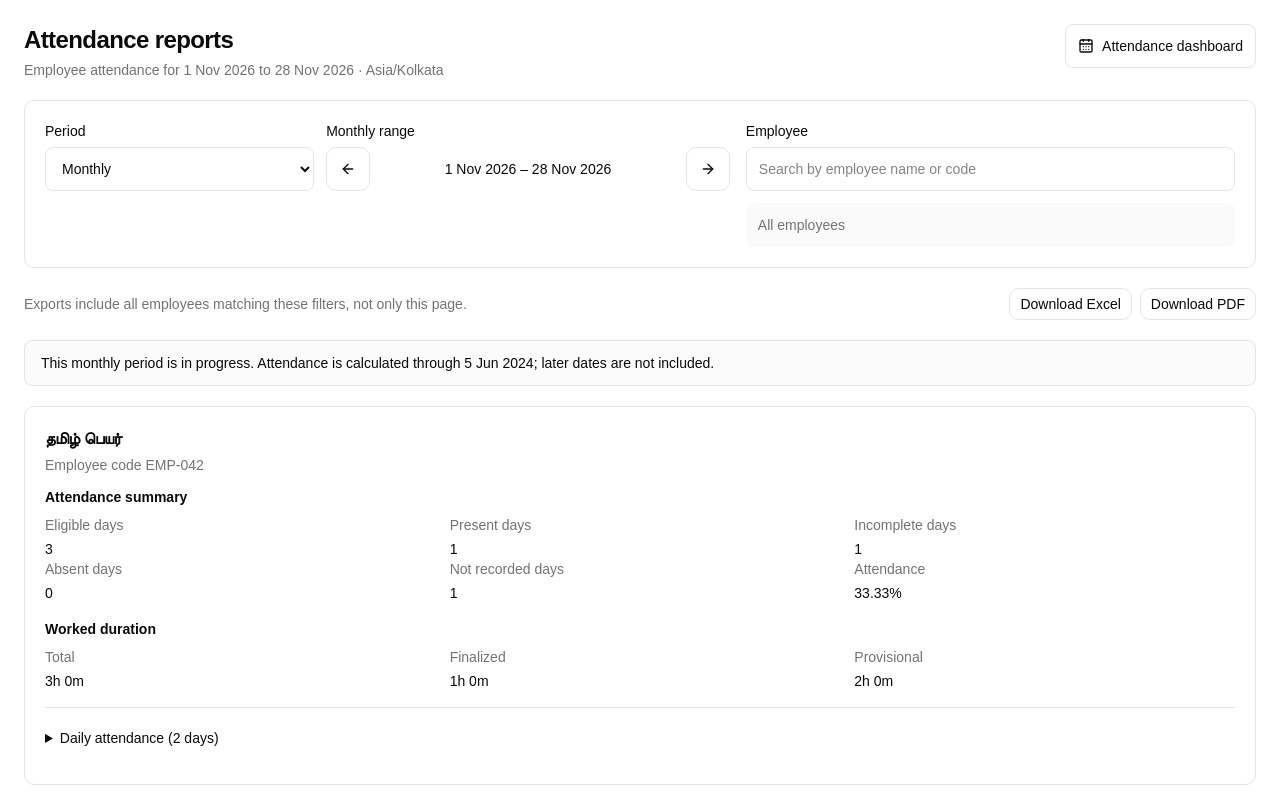
attendance report page › moves between preset periods and reports navigation boundary errors
Select "Weekly" in the dropdown labelled "Period": (180, 169) [45,147,314,191]
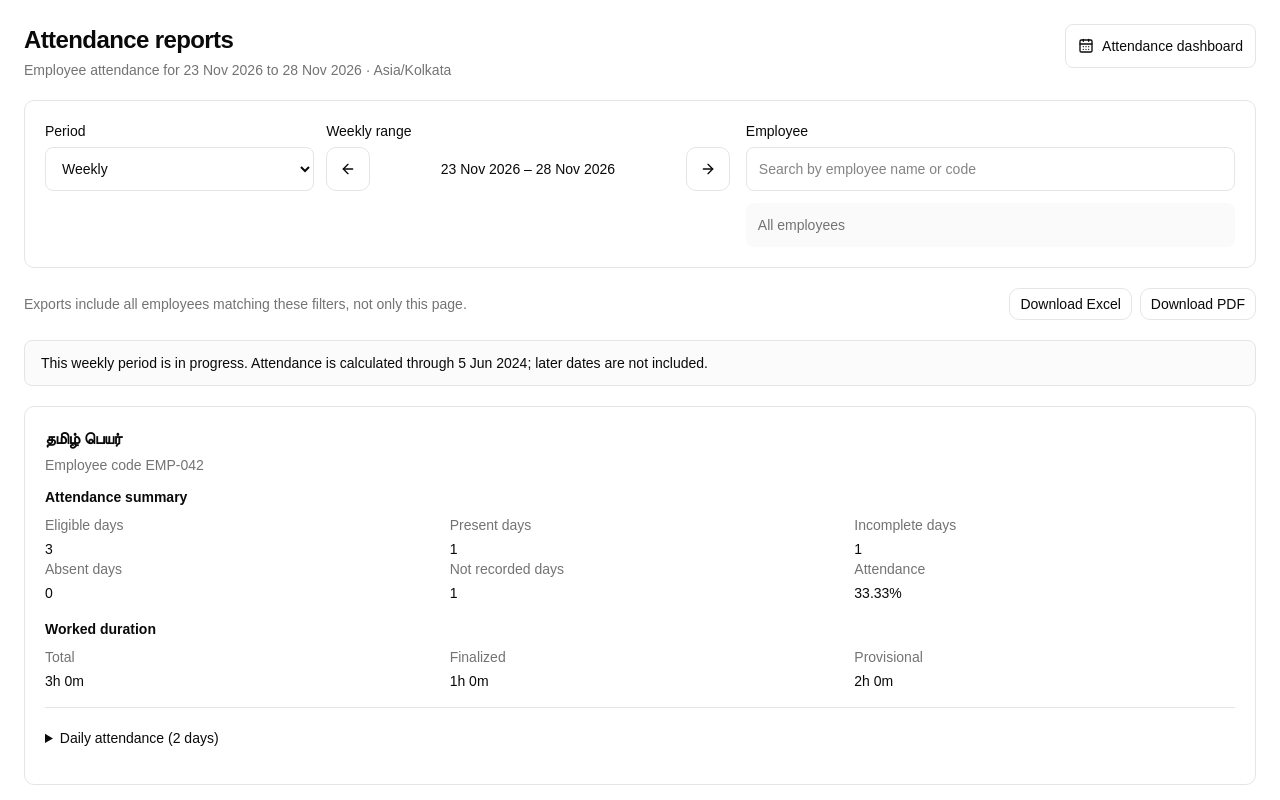
Click the button named "Previous week": (348, 169) [326,147,370,191]
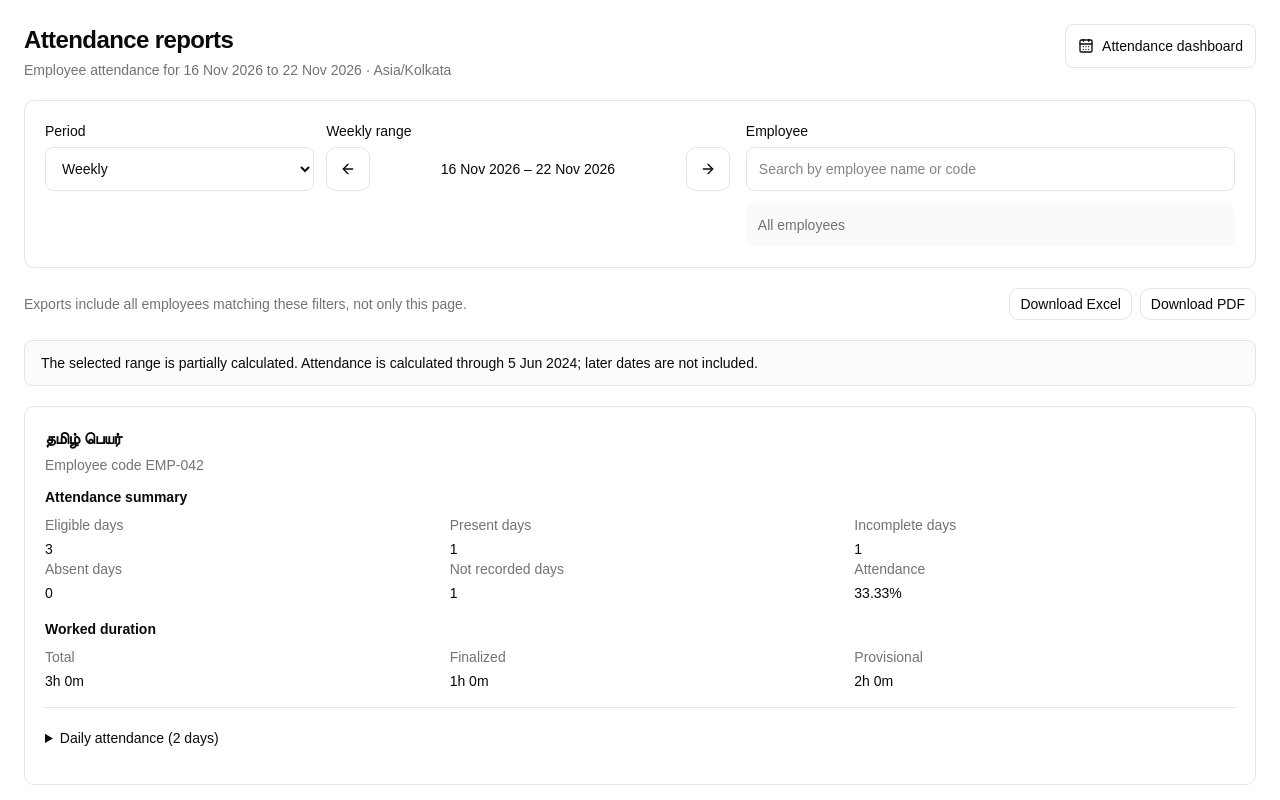
Click the button named "Next week": (708, 169) [686,147,730,191]
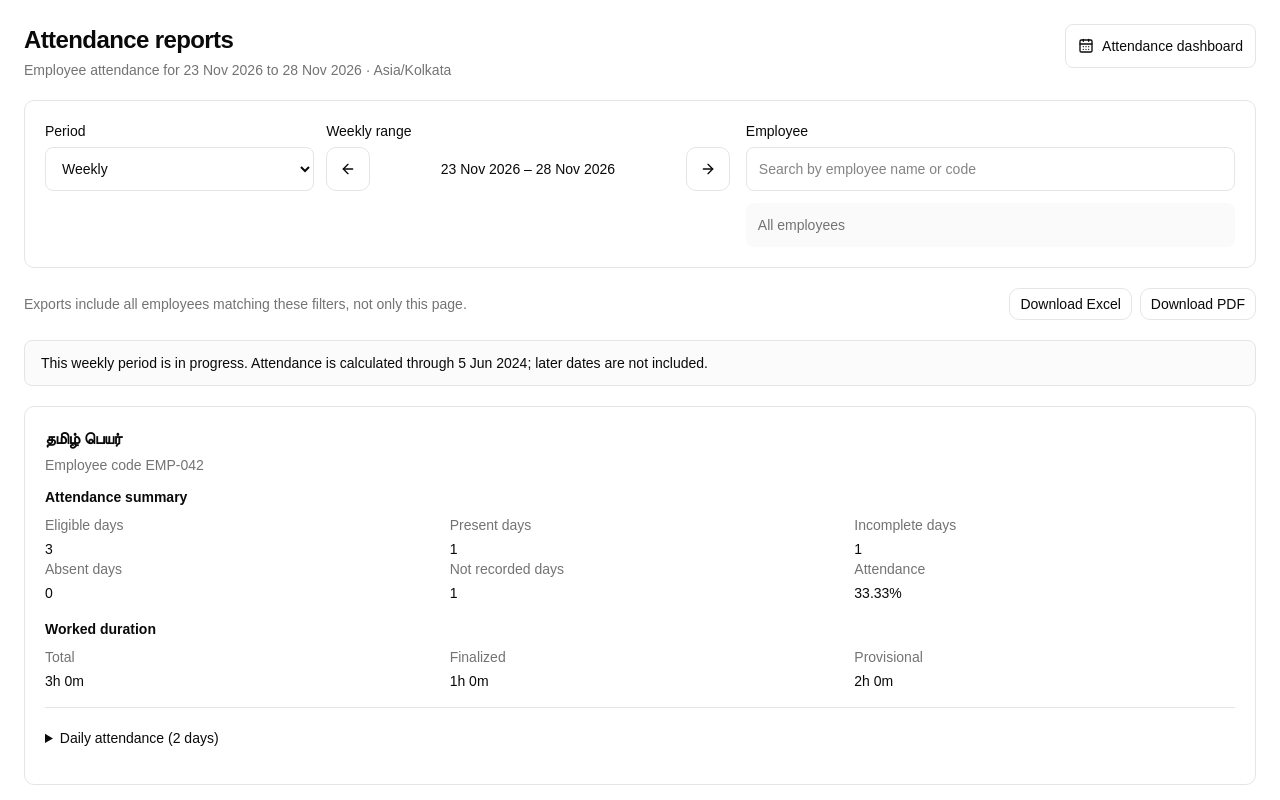
Click the button named "Previous week": (348, 169) [326,147,370,191]
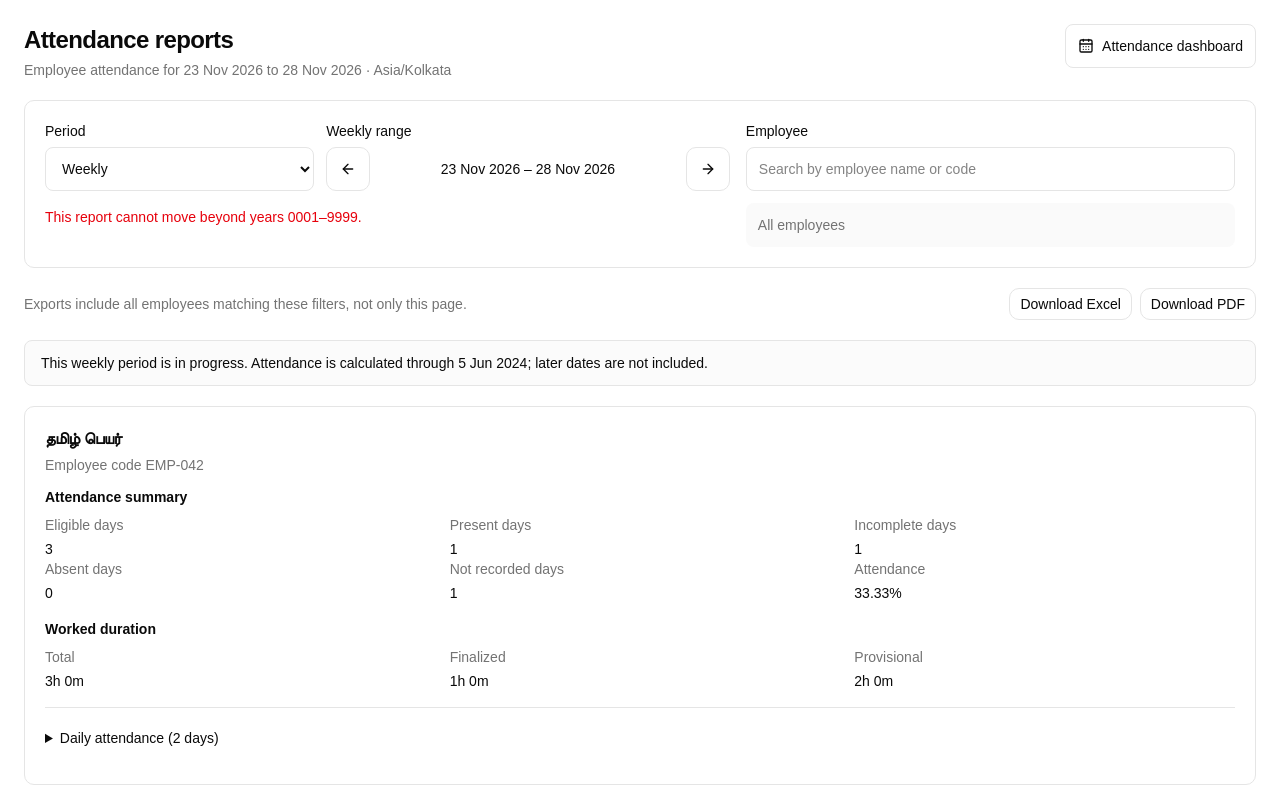
Expected: the message "This report cannot move beyond years 0001–9999." is shown, [45,209,362,225]
